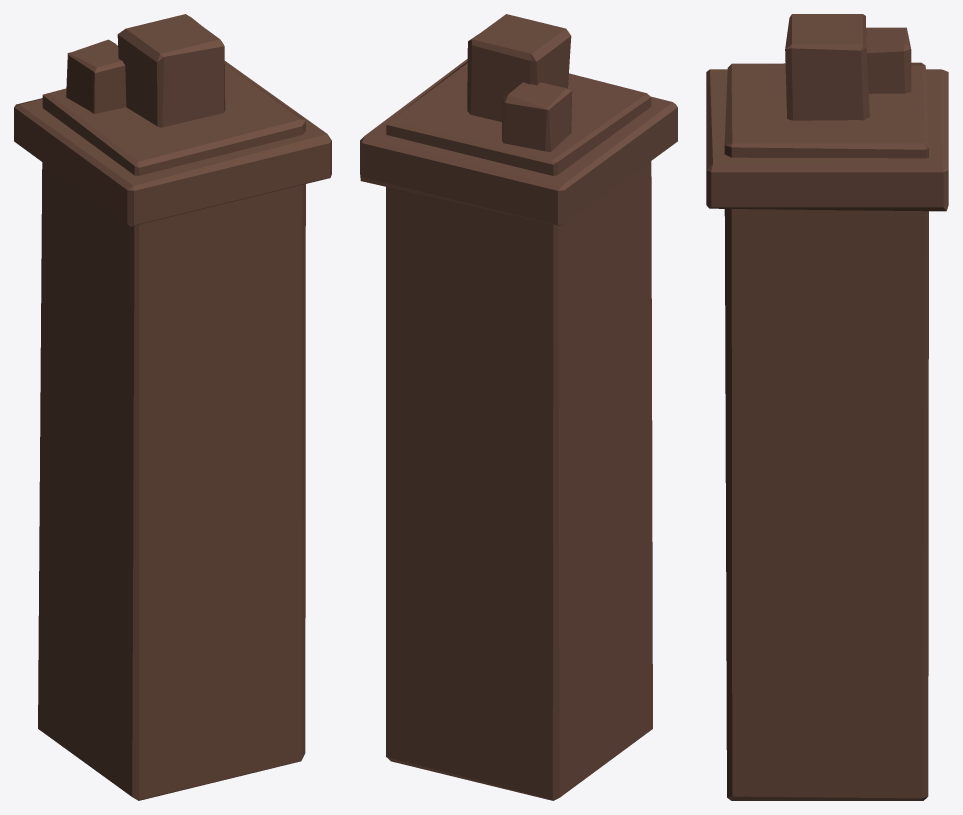
File: chimney.fbx
The picture shows the model from 3 angles, left to right: view 1: azimuth 30°, elevation 25°; view 2: azimuth 150°, elevation 25°; view 3: azimuth 270°, elevation 25°; orthographic projection. The views are drawn at different scales.
Parts seen in each view (by area): view 1: chimney; view 2: chimney; view 3: chimney.
Boxes of the visible parts, x1,y1,x2,y2 form: chimney: (14,14,331,800); chimney: (360,14,677,800); chimney: (706,14,948,800).
Bounding box in the file's own units: 300 × 1000 × 300.
